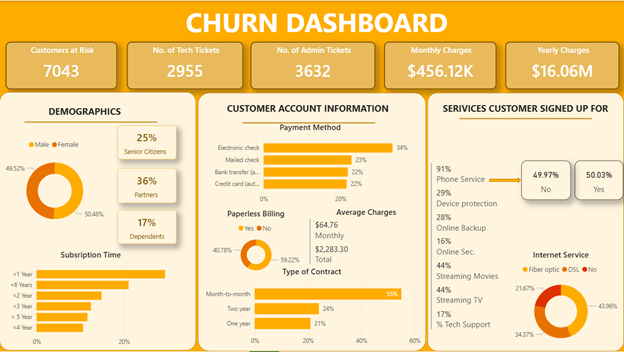

The page's visual inventory and layout, read from the dashboard file:
{"tool":"powerbi","page":{"name":"Churn Dashboard","canvas":[1280,720],"ordinal":0},"visuals":[{"type":"card","title":"Customers at Risk","fields":{"Values":["CountNonNull(01 Churn-Dataset.customerID)"]},"box":[12.6,83.7,229,97.9],"z":0},{"type":"card","title":"Monthly Charges","fields":{"Values":["Sum(01 Churn-Dataset.MonthlyCharges)"]},"box":[787.9,83.7,230.5,97.9],"z":1000},{"type":"card","title":"No. of  Tech Tickets","fields":{"Values":["Sum(01 Churn-Dataset.numTechTickets)"]},"box":[260.5,83.7,238.4,97.9],"z":2000},{"type":"card","title":"No. of Admin Tickets","fields":{"Values":["Sum(01 Churn-Dataset.numAdminTickets)"]},"box":[514.7,83.7,255.8,97.9],"z":3000},{"type":"card","title":"Yearly Charges","fields":{"Values":["Sum(01 Churn-Dataset.TotalCharges)"]},"box":[1035.8,83.7,233.7,97.9],"z":4000},{"type":"shape","box":[0,187.9,402.6,530.5],"z":5000},{"type":"donutChart","fields":{"Category":["01 Churn-Dataset.gender"],"Y":["CountNonNull(01 Churn-Dataset.gender)"]},"box":[0,274.7,225.8,200.5],"z":6000},{"type":"clusteredBarChart","title":"Subsription Time","fields":{"Category":["01 Churn-Dataset.Loyalty"],"Y":["CountNonNull(01 Churn-Dataset.Churn)"]},"box":[12.6,510,349,208.4],"z":7000},{"type":"card","fields":{"Values":["01 Churn-Dataset.Dependents in %"]},"box":[241.6,429.1,120,69.5],"z":8000},{"type":"card","fields":{"Values":["01 Churn-Dataset.Senior citizens in %"]},"box":[241.6,257,120,69.5],"z":9000},{"type":"card","fields":{"Values":["01 Churn-Dataset.Partners in %"]},"box":[241.6,343.8,120,71.1],"z":10000},{"type":"shape","box":[405.8,189.5,467.4,530.5],"z":11000},{"type":"donutChart","title":"Paperless Billing","fields":{"Category":["01 Churn-Dataset.PaperlessBilling"],"Y":["CountNonNull(01 Churn-Dataset.PaperlessBilling)"]},"box":[426.3,424.7,197.4,142.1],"z":12000},{"type":"clusteredBarChart","title":"Payment Method","fields":{"Category":["01 Churn-Dataset.PaymentMethod"],"Y":["CountNonNull(01 Churn-Dataset.PaymentMethod)"]},"box":[418.4,247.9,435.8,176.8],"z":13000},{"type":"multiRowCard","title":"Average Charges","fields":{"Values":["Avg(01 Churn-Dataset.MonthlyCharges)","Avg(01 Churn-Dataset.TotalCharges)"]},"box":[630,421.6,243.2,134.2],"z":14000},{"type":"clusteredBarChart","title":"Type of Contract","fields":{"Category":["01 Churn-Dataset.Contract"],"Y":["CountNonNull(01 Churn-Dataset.Contract)"]},"box":[409,543.2,461.1,172.1],"z":15000},{"type":"shape","box":[877.4,189.5,402.6,530.5],"z":16000},{"type":"multiRowCard","fields":{"Values":["01 Churn-Dataset.% Phone Service","01 Churn-Dataset.% Device protection","01 Churn-Dataset.% Online Backup","01 Churn-Dataset.% Online Sec.","01 Churn-Dataset.% Streaming Movies","01 Churn-Dataset.% Streaming TV","01 Churn-Dataset.% Tech Support"]},"box":[877.9,328.4,173.7,372.6],"z":17000},{"type":"shape","box":[1003.2,362.6,64.7,12.6],"z":18000},{"type":"card","fields":{"Values":["01 Churn-Dataset.% NO-Multiple lines"]},"box":[1069.5,327.8,101.1,80.5],"z":19000},{"type":"card","fields":{"Values":["01 Churn-Dataset.% Yes-Multiple Lines"]},"box":[1178.4,327.8,99.5,80.5],"z":20000},{"type":"donutChart","title":"Internet Service","fields":{"Category":["01 Churn-Dataset.InternetService"],"Y":["CountNonNull(01 Churn-Dataset.InternetService)"]},"box":[1018.4,510,262.1,205.3],"z":21000},{"type":"textbox","box":[94.7,210,184.7,37.9],"z":22000},{"type":"textbox","box":[461.1,203.7,377.4,37.9],"z":23000},{"type":"textbox","box":[903.2,203.7,377.4,37.9],"z":24000},{"type":"shape","box":[52.1,233.7,271.6,30],"z":25000},{"type":"shape","box":[499,238.4,271.6,23.7],"z":26000},{"type":"shape","box":[942.6,167.4,271.6,150],"z":27000},{"type":"textbox","box":[260.5,1.6,778.4,82.1],"z":28000}]}

Visuals, with their boxes in screenshot pixels (x1, y1, x2, y2), scaled from the page's 1280x720 canvas onto the 624x352 screenshot:
"Customers at Risk" card: <region>6, 41, 118, 89</region>
"Monthly Charges" card: <region>384, 41, 496, 89</region>
"No. of  Tech Tickets" card: <region>127, 41, 243, 89</region>
"No. of Admin Tickets" card: <region>251, 41, 376, 89</region>
"Yearly Charges" card: <region>505, 41, 619, 89</region>
shape: <region>0, 92, 196, 351</region>
donutChart - 01 Churn-Dataset.gender x CountNonNull(01 Churn-Dataset.gender): <region>0, 134, 110, 232</region>
"Subsription Time" clusteredBarChart: <region>6, 249, 176, 351</region>
card - 01 Churn-Dataset.Dependents in %: <region>118, 210, 176, 244</region>
card - 01 Churn-Dataset.Senior citizens in %: <region>118, 126, 176, 160</region>
card - 01 Churn-Dataset.Partners in %: <region>118, 168, 176, 203</region>
shape: <region>198, 93, 426, 351</region>
"Paperless Billing" donutChart: <region>208, 208, 304, 277</region>
"Payment Method" clusteredBarChart: <region>204, 121, 416, 208</region>
"Average Charges" multiRowCard: <region>307, 206, 426, 272</region>
"Type of Contract" clusteredBarChart: <region>199, 266, 424, 350</region>
shape: <region>428, 93, 623, 351</region>
multiRowCard - 01 Churn-Dataset.% Phone Service x 01 Churn-Dataset.% Device protection: <region>428, 161, 513, 343</region>
shape: <region>489, 177, 521, 183</region>
card - 01 Churn-Dataset.% NO-Multiple lines: <region>521, 160, 571, 200</region>
card - 01 Churn-Dataset.% Yes-Multiple Lines: <region>574, 160, 623, 200</region>
"Internet Service" donutChart: <region>496, 249, 623, 350</region>
textbox: <region>46, 103, 136, 121</region>
textbox: <region>225, 100, 409, 118</region>
textbox: <region>440, 100, 623, 118</region>
shape: <region>25, 114, 158, 129</region>
shape: <region>243, 117, 376, 128</region>
shape: <region>460, 82, 592, 155</region>
textbox: <region>127, 1, 506, 41</region>
